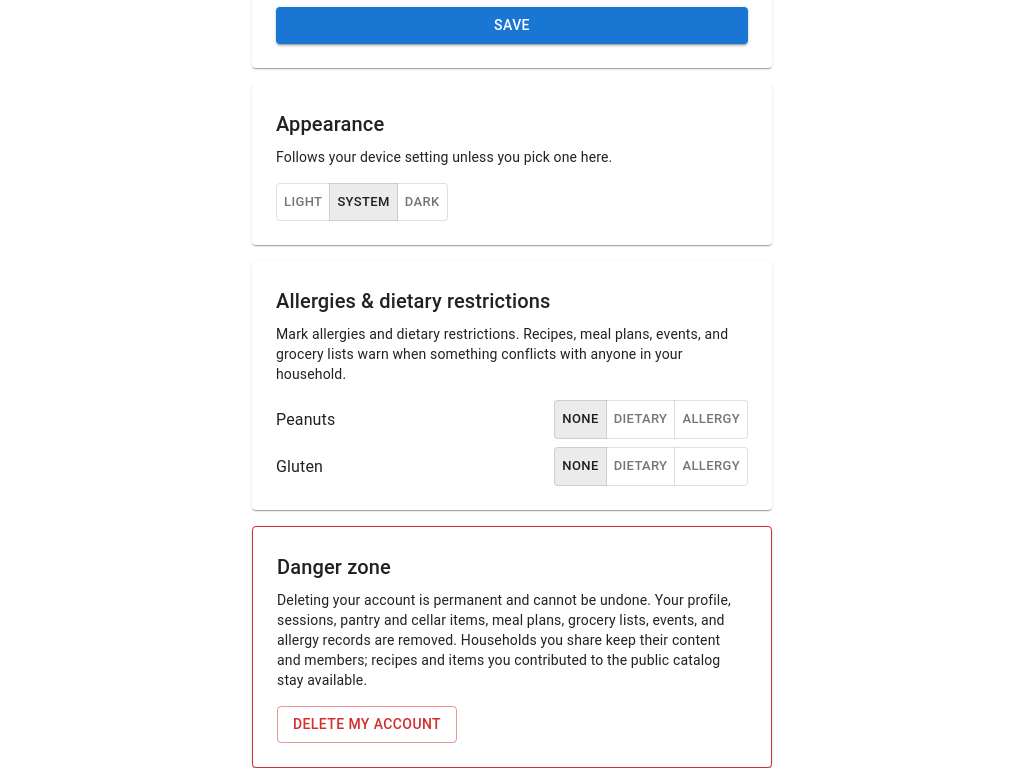
Test: profile page › danger zone › keeps Delete permanently disabled until DELETE is typed
(page scrolled)
Click the button "Delete my account" at x=367, y=724, box [277,706,457,742]
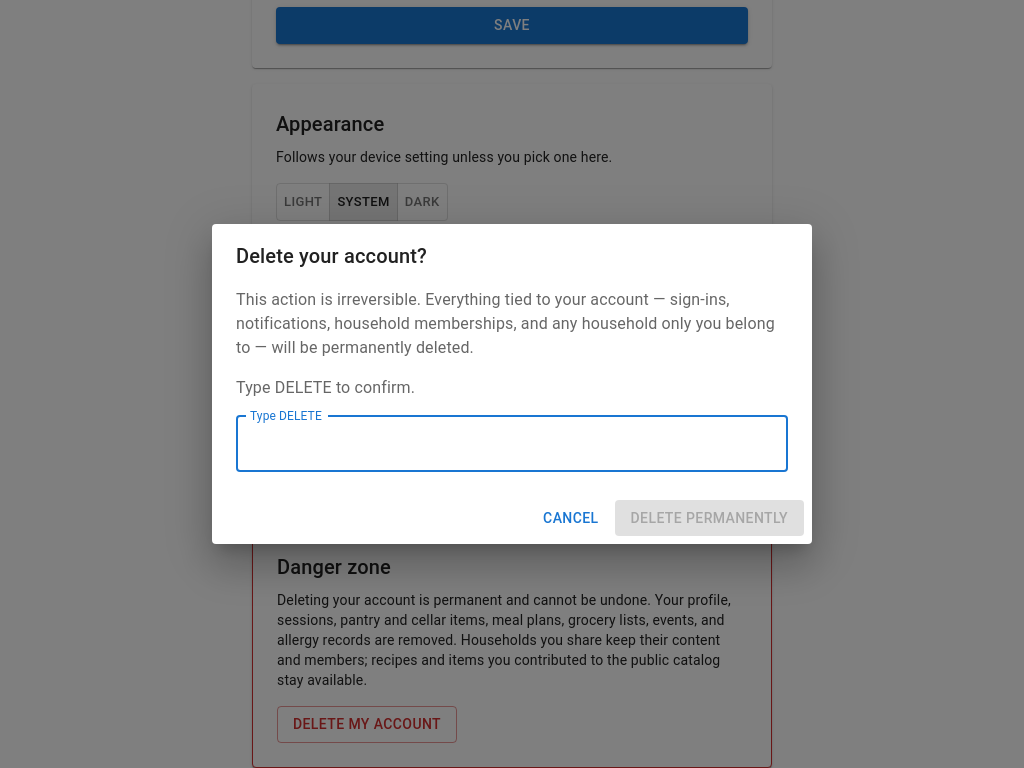
Check: the button with test id "delete-account-submit" is disabled, box [615,500,804,536]
Type "DELET" into the field with test id "delete-account-confirm-input" at x=512, y=444, box [236,416,788,472]
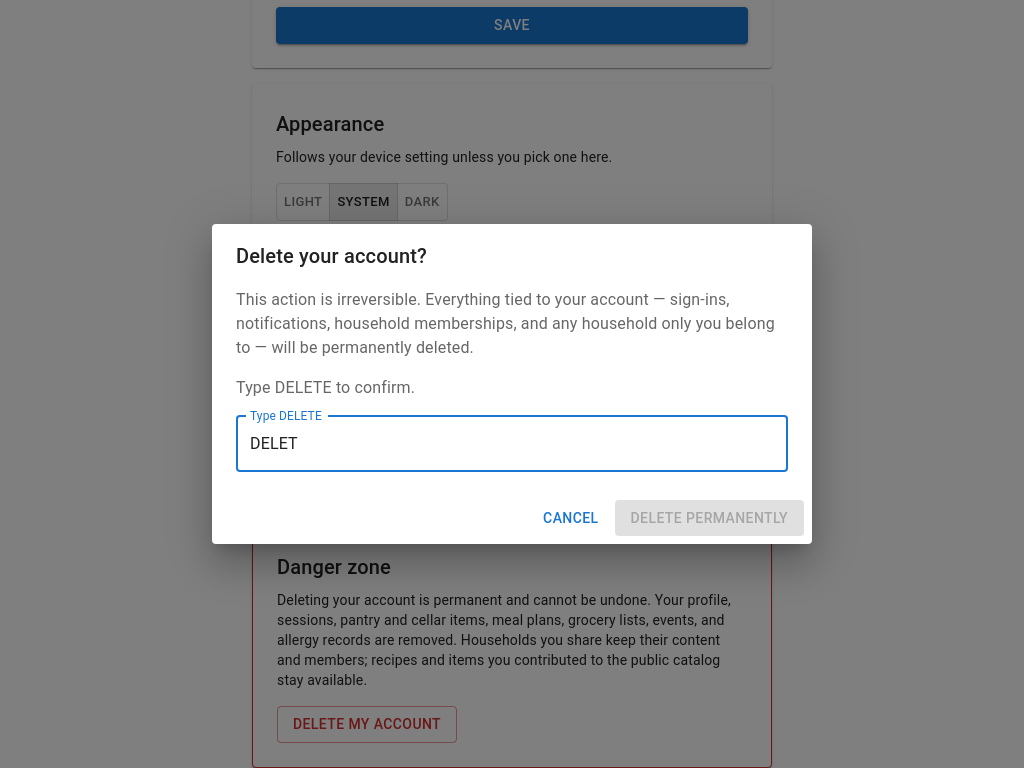
Check: the button with test id "delete-account-submit" is disabled, box [615,500,804,536]
Type "E" into the field with test id "delete-account-confirm-input" at x=512, y=444, box [236,416,788,472]
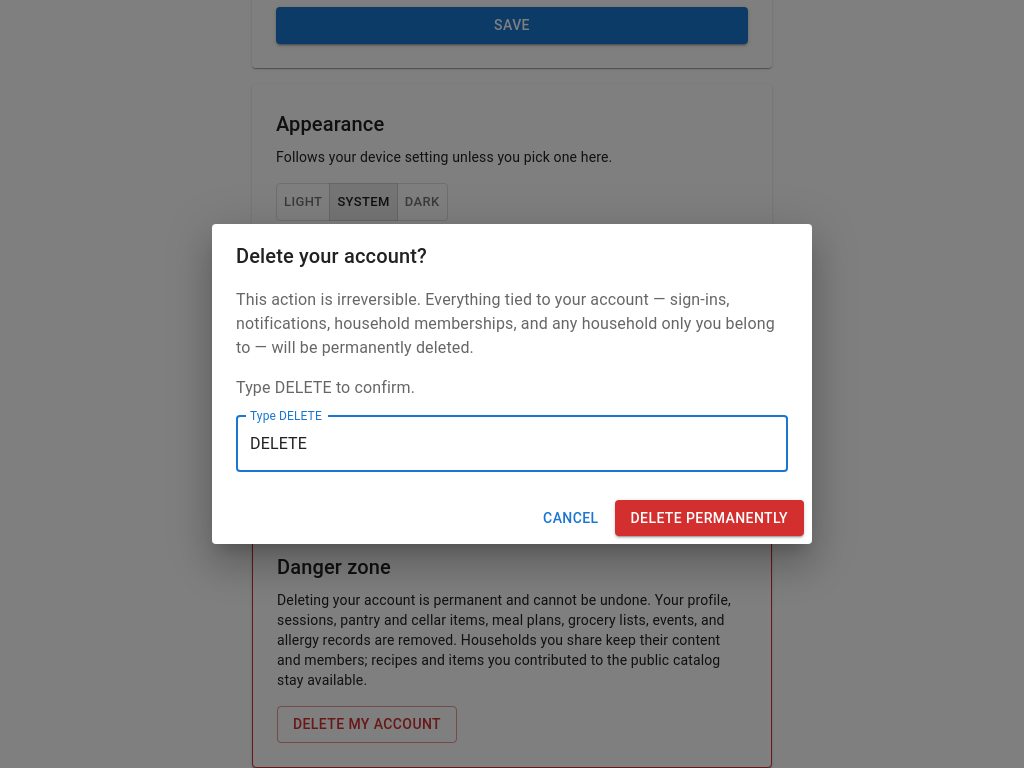
Check: the button with test id "delete-account-submit" is enabled, box [615,500,804,536]
